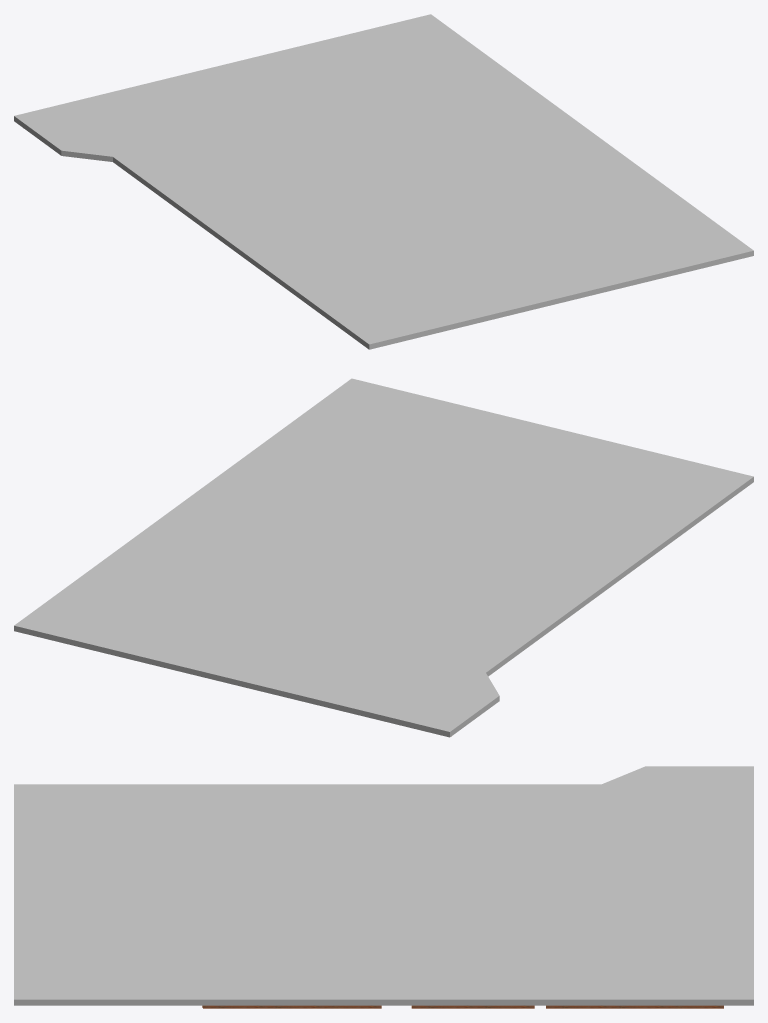
Rendered from Atap (FBX).fbx.
3 renders of one model, top to bottom at view 1: azimuth 30°, elevation 25°; view 2: azimuth 150°, elevation 25°; view 3: azimuth 270°, elevation 25°, orthographic. The views are drawn at different scales.
Visible parts, largest first — view 1: Atap; view 2: Atap; view 3: Atap, Penyangga Atap.026.
Boxes of the visible parts, x1,y1,x2,y2 form: Atap: [14, 14, 753, 349]; Atap: [14, 378, 753, 737]; Atap: [14, 766, 753, 1005]; Penyangga Atap.026: [202, 1005, 723, 1008].
Bounding box in the file's own units: 7742 × 384 × 10389.
